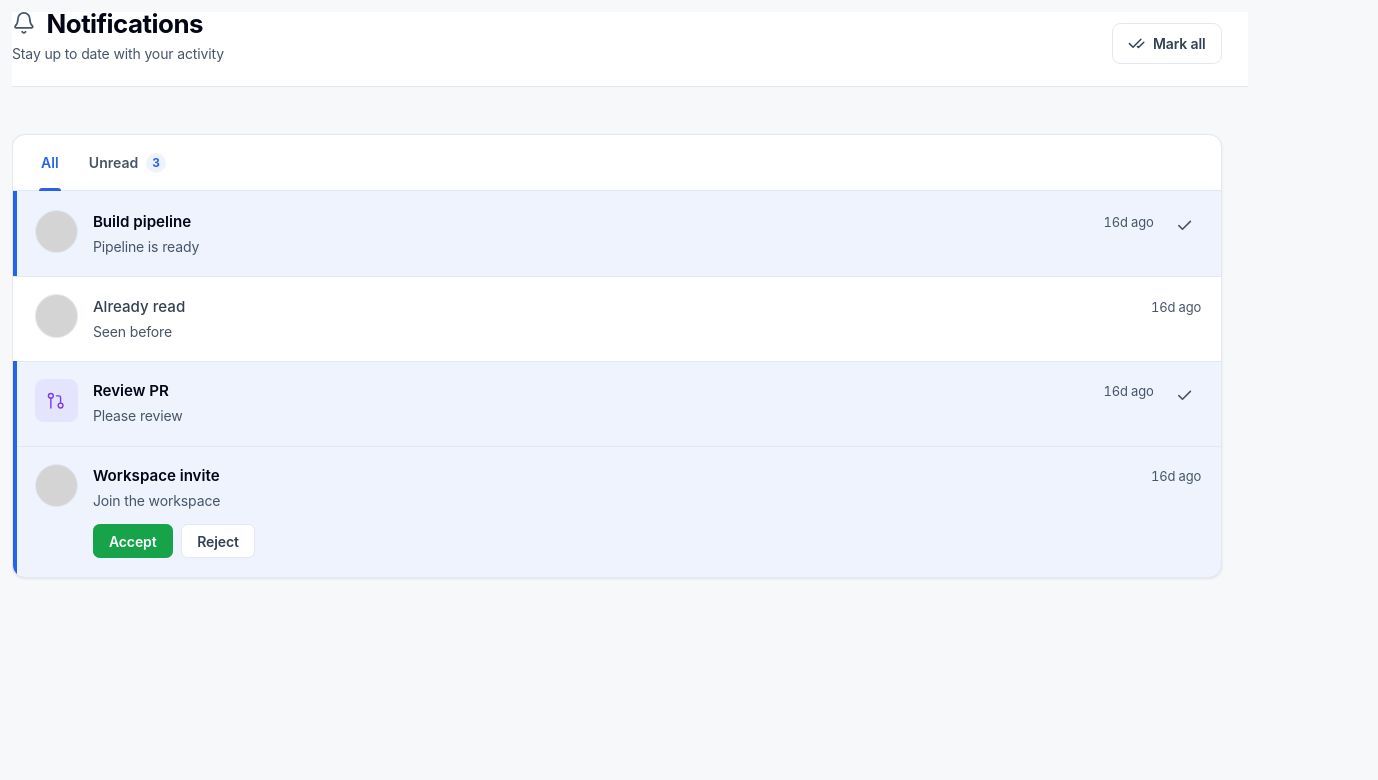
Test: NotificationsPage › shows an action error when mark all fails
The width and height of the screenshot is (1378, 780).
Expected: the text "Build pipeline" is shown, x1=93 y1=212 x2=191 y2=231
Click the button "Mark all" at (1167, 44), box x1=1112 y1=23 x2=1222 y2=64
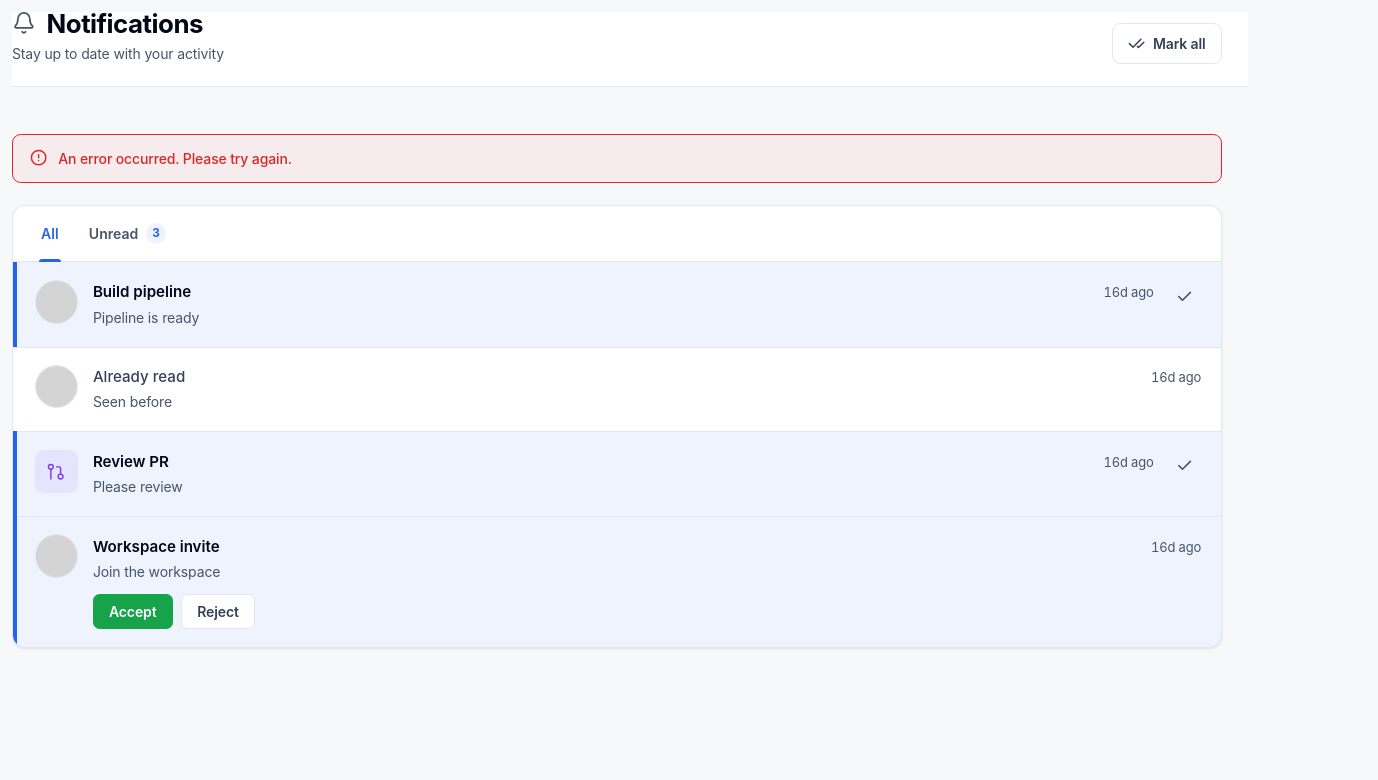
Expected: the text "An error occurred. Please try again." is shown, x1=58 y1=150 x2=292 y2=167
